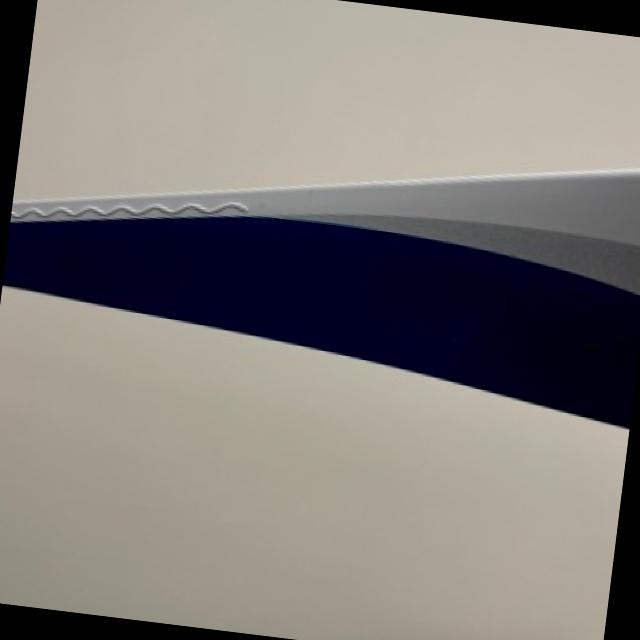healthy: (0, 169, 640, 640), (2, 169, 640, 422)
